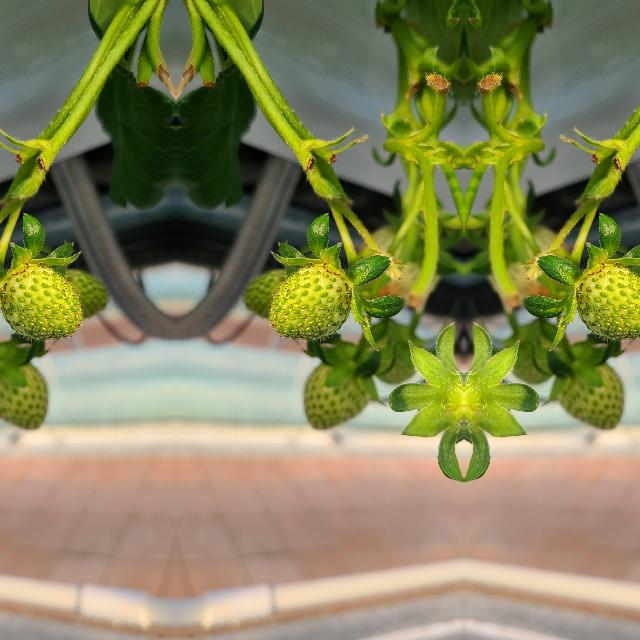Health_25: (0, 265, 81, 338), (269, 266, 351, 338), (303, 359, 375, 429), (551, 359, 623, 429), (575, 265, 640, 338), (0, 359, 47, 429)
